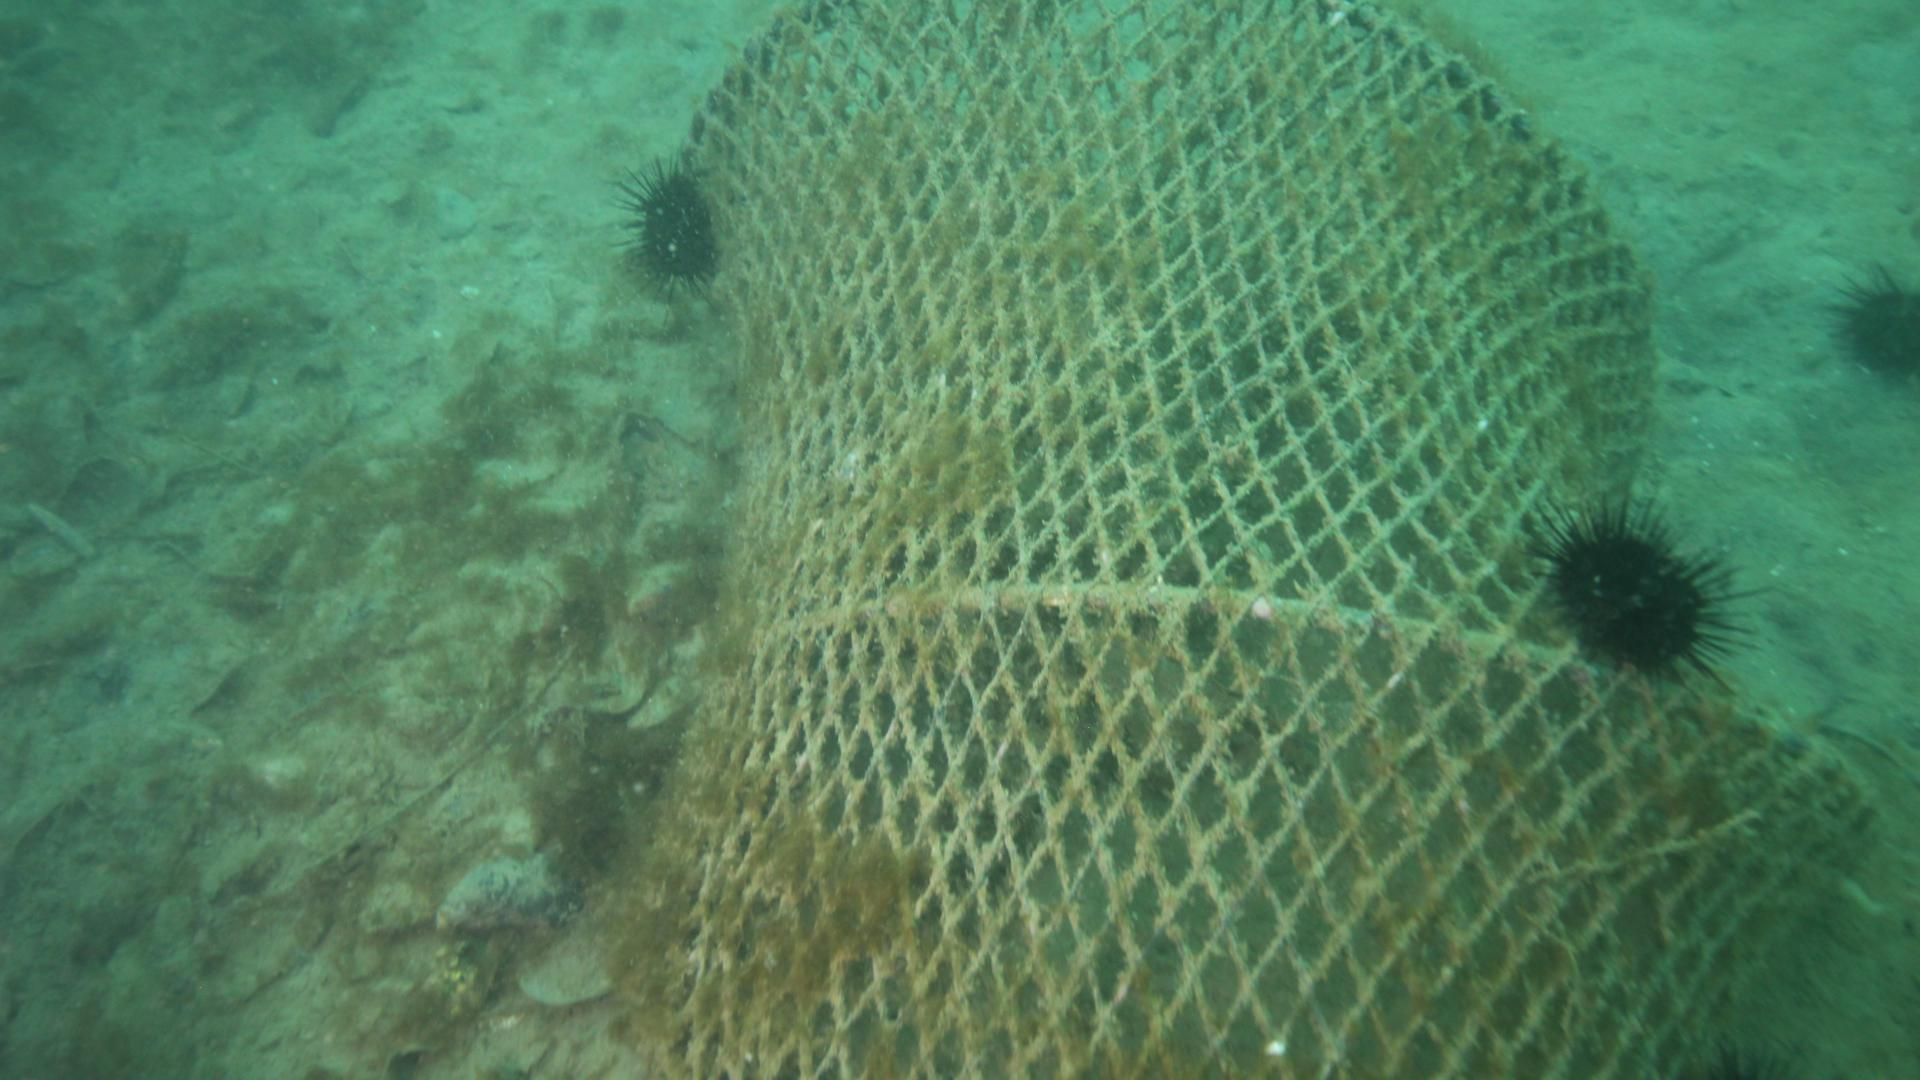spring fish trap: (651, 0, 1887, 1080)
